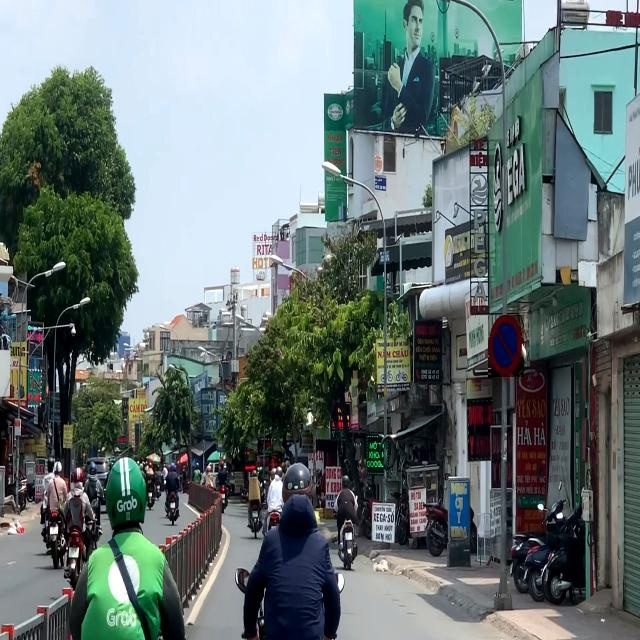bien_cam: (488, 316, 524, 378)
